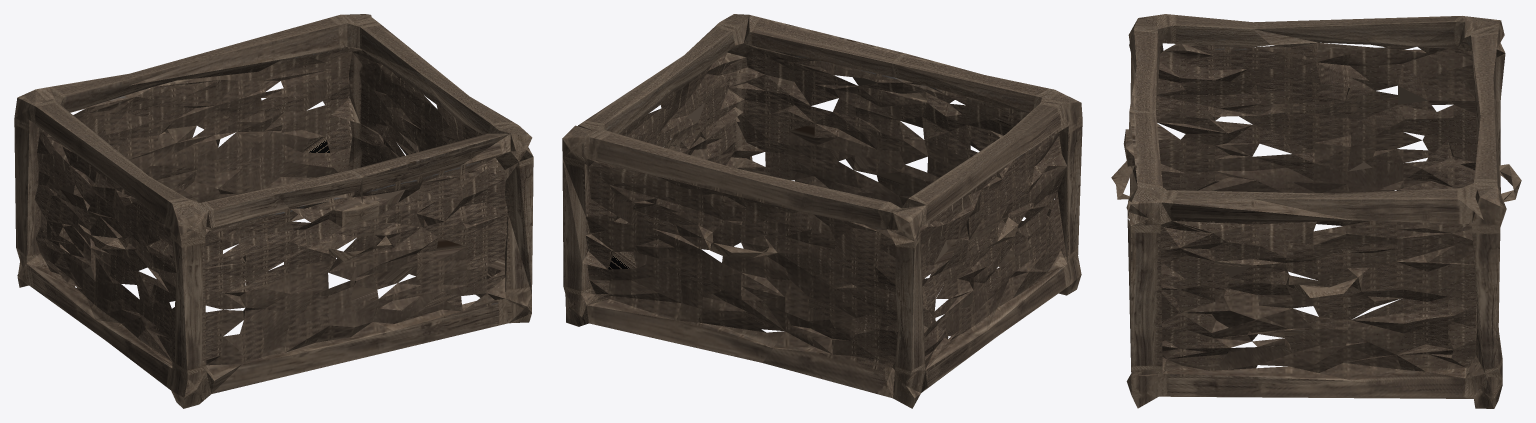
File: woven_crate.fbx
The picture shows the model from 3 angles, left to right: view 1: azimuth 30°, elevation 25°; view 2: azimuth 150°, elevation 25°; view 3: azimuth 270°, elevation 25°; orthographic projection. The views are drawn at different scales.
Parts seen in each view (by area): view 1: output_unwrapped; view 2: output_unwrapped; view 3: output_unwrapped.
Boxes of the visible parts, box(x1,y1,x2,y2) form: output_unwrapped: box(14, 14, 533, 408); output_unwrapped: box(562, 14, 1082, 408); output_unwrapped: box(1111, 14, 1521, 408).
Bounding box in the file's own units: 187 × 94.44 × 164.
1 material, 1 textured.
